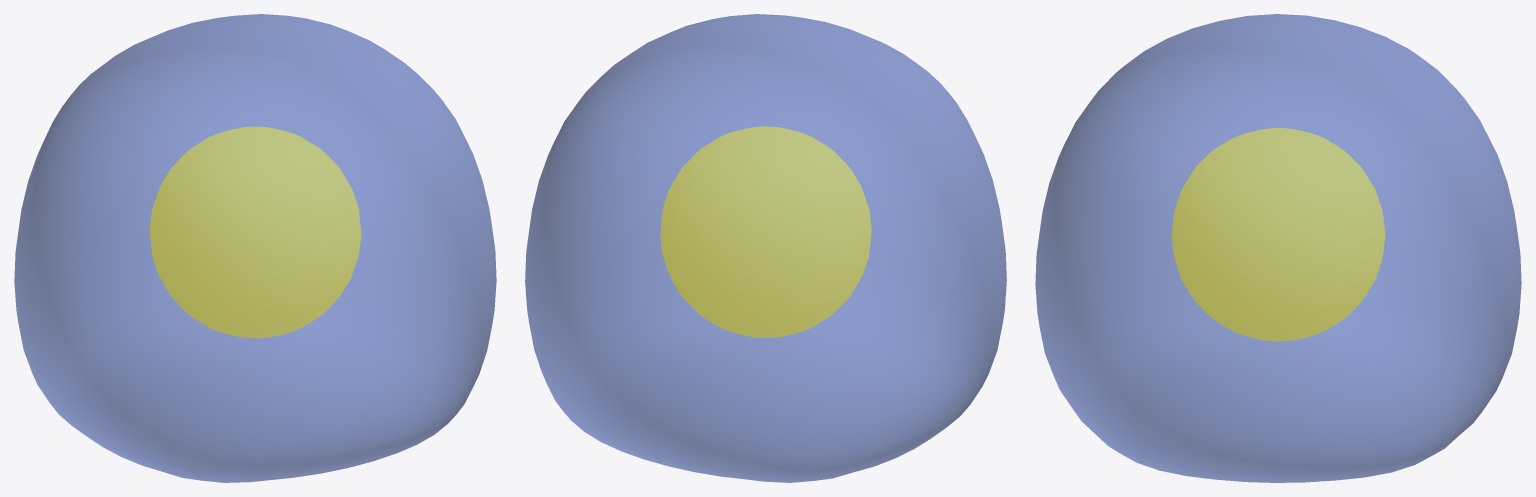
Rendered from pruebita 1.fbx.
3 views of the same model, side by side, from view 1: azimuth 30°, elevation 25°; view 2: azimuth 150°, elevation 25°; view 3: azimuth 270°, elevation 25° (orthographic).
Parts seen in each view (by area): view 1: Cube, Sphere; view 2: Cube, Sphere; view 3: Cube, Sphere.
Part boxes in pixels (x1=…): Cube: x1=14, y1=14, x2=496, y2=482; Sphere: x1=149, y1=126, x2=361, y2=338; Cube: x1=525, y1=14, x2=1006, y2=482; Sphere: x1=660, y1=126, x2=871, y2=337; Cube: x1=1035, y1=14, x2=1521, y2=482; Sphere: x1=1171, y1=128, x2=1385, y2=341.
Size of the model in its own units: 327 by 281 by 327.
